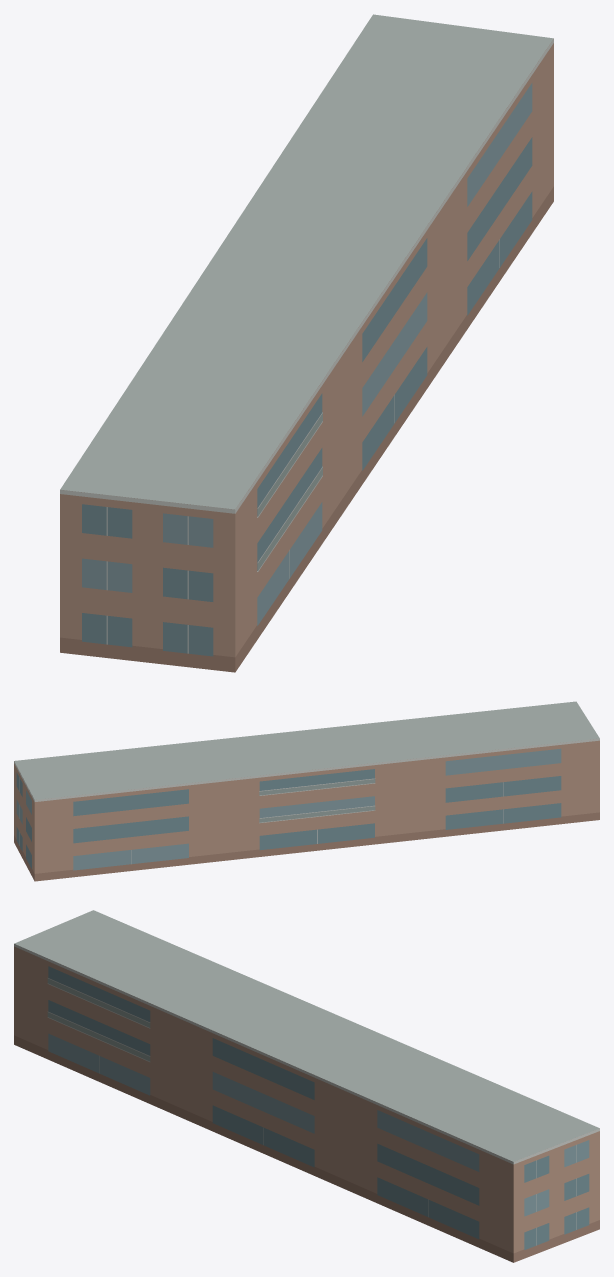
Rendered from survey-upis-32756123.glb.
The picture shows the model from 3 angles, top to bottom: view 1: azimuth 30°, elevation 25°; view 2: azimuth 150°, elevation 25°; view 3: azimuth 270°, elevation 25°; orthographic projection. The views are drawn at different scales.
Visible parts, largest first — view 1: survey-upis-32756123.tmp; view 2: survey-upis-32756123.tmp; view 3: survey-upis-32756123.tmp.
Boxes of the visible parts, box(x1,y1,x2,y2) form: survey-upis-32756123.tmp: box(60, 14, 553, 672); survey-upis-32756123.tmp: box(14, 701, 599, 881); survey-upis-32756123.tmp: box(14, 910, 599, 1262).
Bounding box in the file's own units: 48.92 × 9.15 × 48.11.
